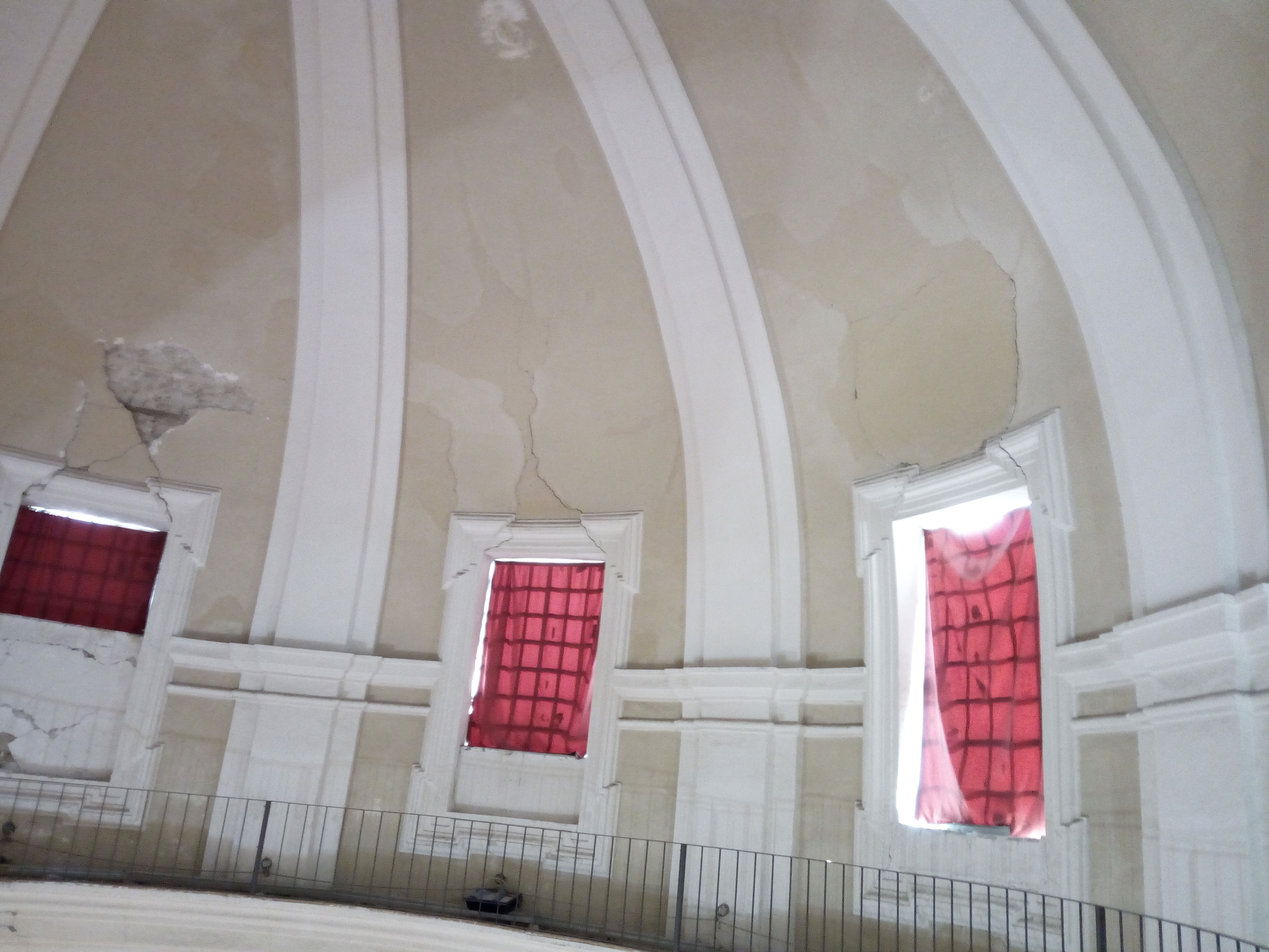Crack: (827, 247, 1063, 526), (432, 370, 677, 576), (35, 329, 259, 544), (2, 682, 123, 778)
